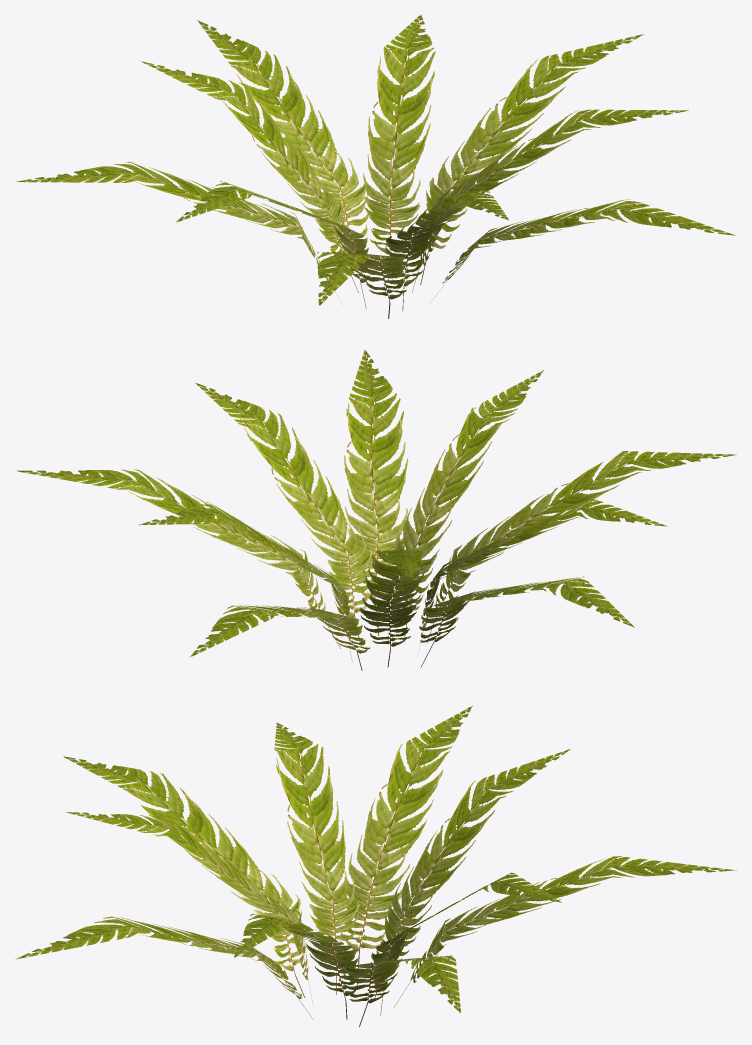
File: MS_Plant_2.fbx
The picture shows the model from 3 angles, top to bottom: view 1: azimuth 30°, elevation 25°; view 2: azimuth 150°, elevation 25°; view 3: azimuth 270°, elevation 25°; orthographic projection.
Visible parts, largest first — view 1: Plane; view 2: Plane; view 3: Plane.
Part boxes in pixels (x1,y1,x2,y2): Plane: (15,14,735,318); Plane: (17,349,736,670); Plane: (15,705,736,1026).
Size of the model in its own units: 86.89 by 25.23 by 86.15.
